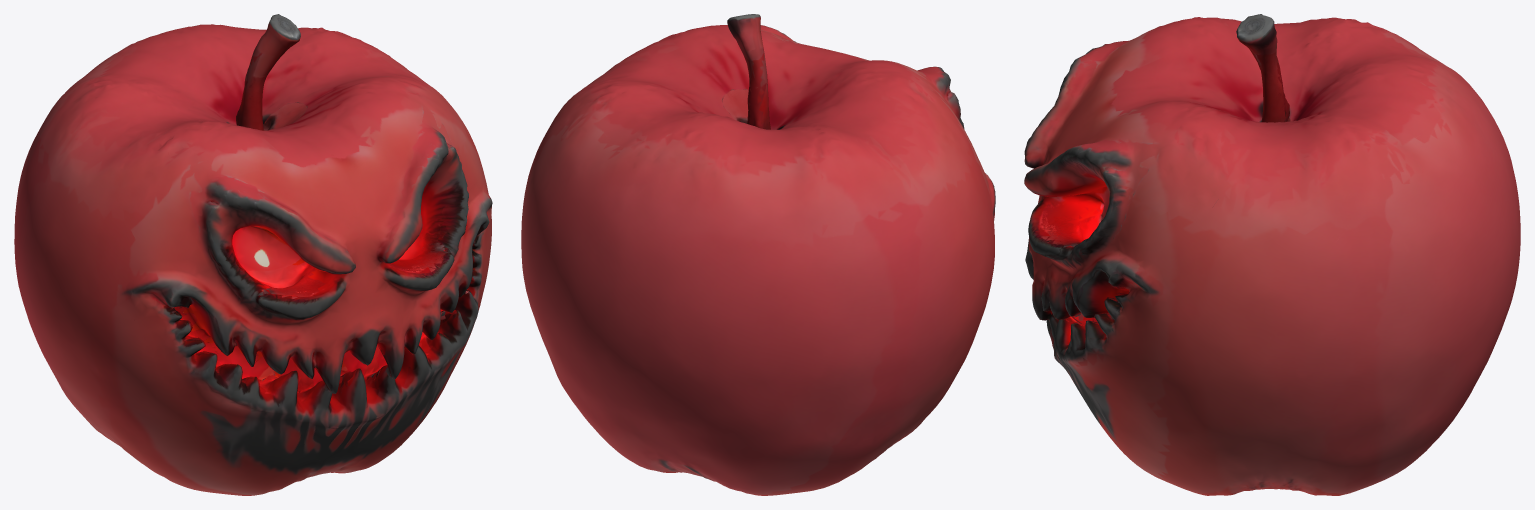
Rendered from refined_019a9a37-c20f-7aac-bebd-9b83dfb636cb.fbx.
3 renders of one model, left to right at view 1: azimuth 30°, elevation 25°; view 2: azimuth 150°, elevation 25°; view 3: azimuth 270°, elevation 25°, orthographic. The views are drawn at different scales.
Visible parts, largest first — view 1: input; view 2: input; view 3: input.
Boxes of the visible parts, x1,y1,x2,y2 form: input: (14, 14, 492, 495); input: (521, 14, 995, 495); input: (1024, 14, 1520, 495).
Bounding box in the file's own units: 191 × 191 × 191.
1 material, 1 textured.
